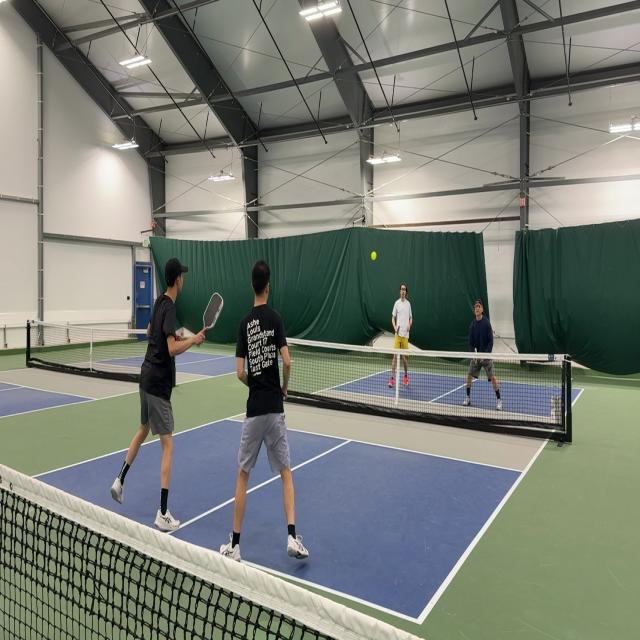ball: (370, 250, 378, 262)
